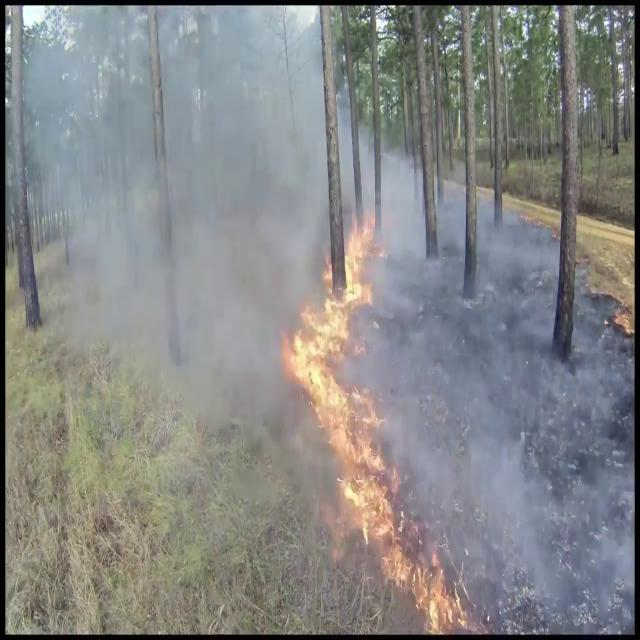Fire: (280, 209, 448, 631)
Smoke: (39, 7, 323, 507)
